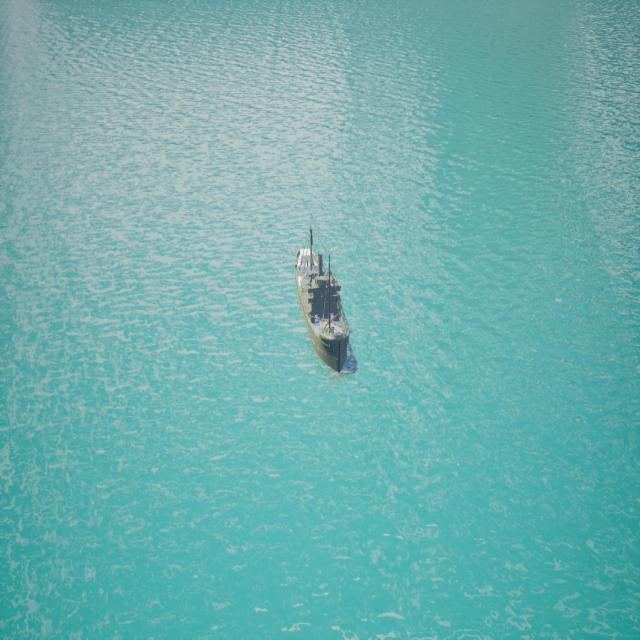fishing ship: (296, 229, 352, 381)
